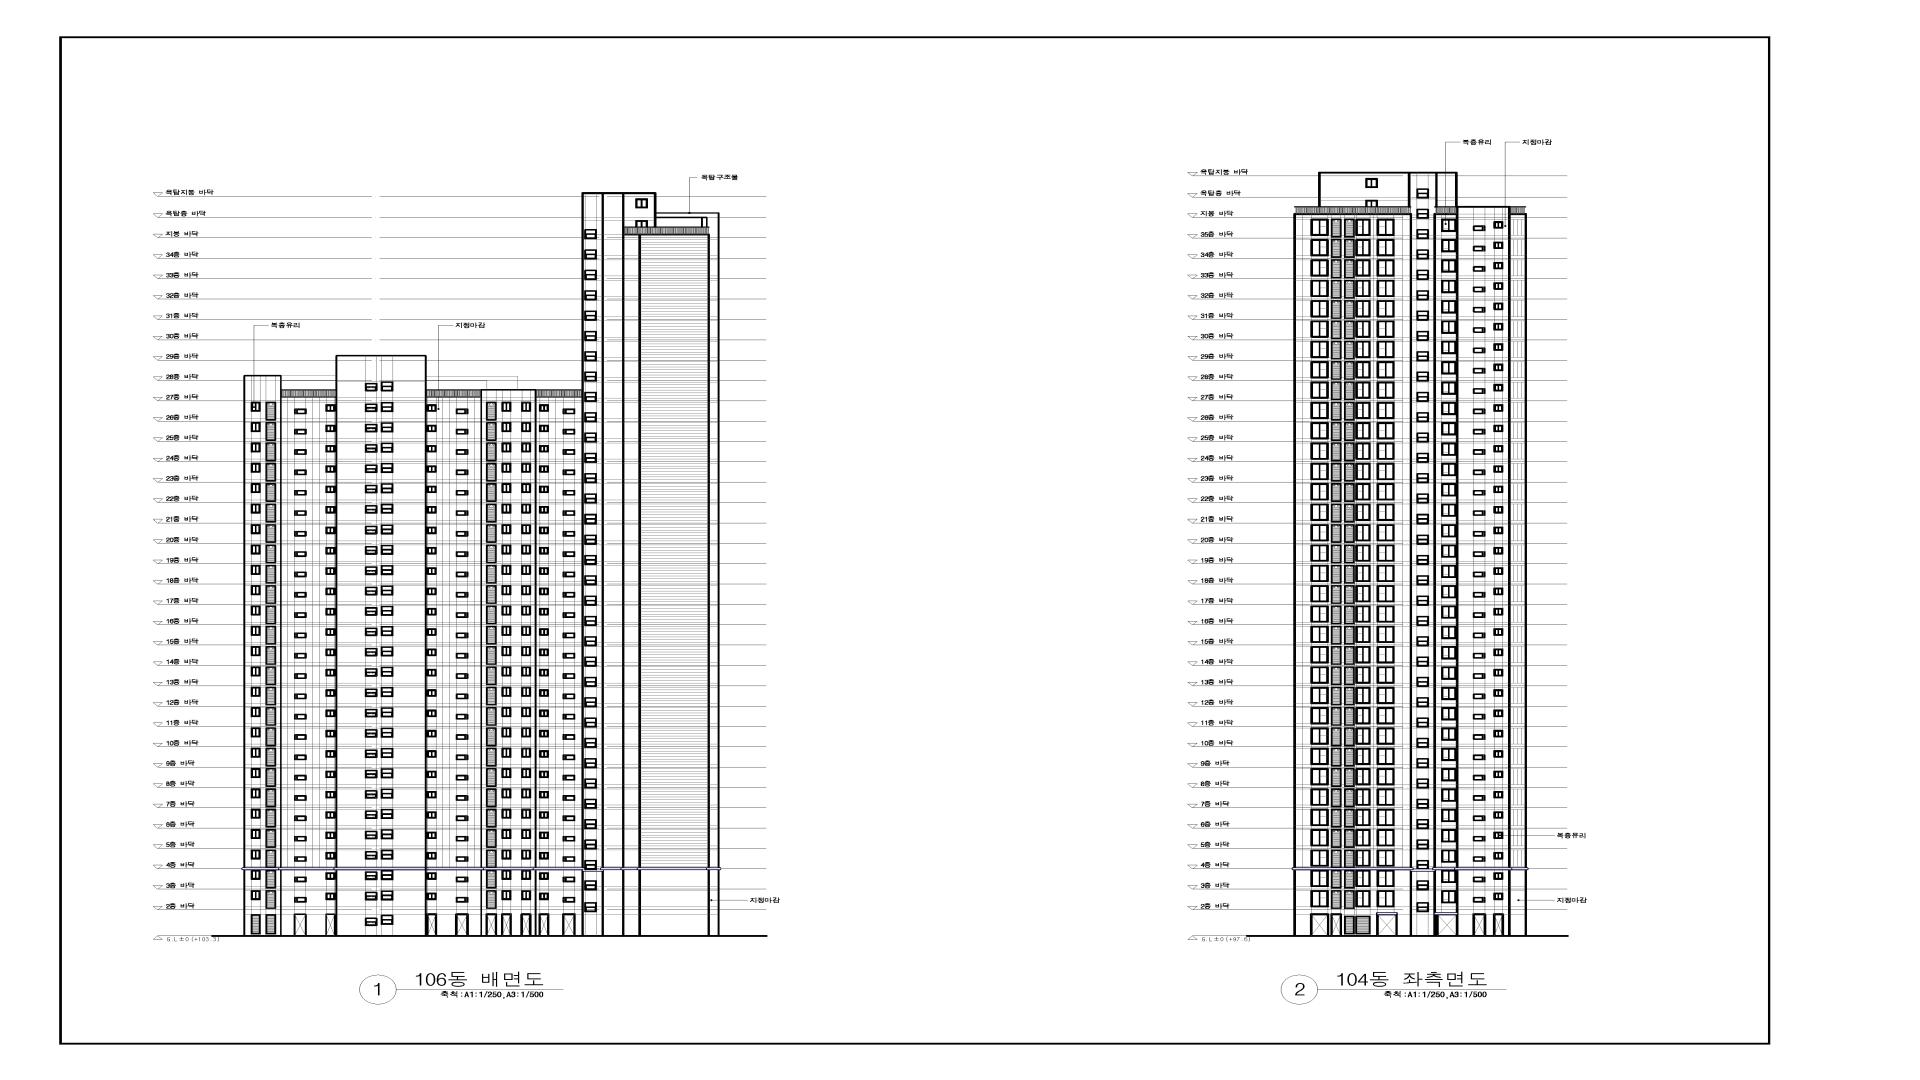door: (1433, 915, 1458, 935), (1376, 914, 1398, 935), (1310, 913, 1329, 935), (455, 913, 469, 936), (562, 913, 576, 936), (1472, 913, 1486, 935), (294, 914, 307, 936), (325, 913, 337, 936), (520, 913, 532, 936), (1330, 913, 1342, 935), (486, 913, 497, 936), (501, 913, 512, 936), (538, 913, 549, 936), (1493, 913, 1504, 935), (427, 913, 437, 936)
wall: (243, 192, 720, 937), (1293, 172, 1527, 937)
window: (1310, 808, 1329, 826), (1376, 381, 1395, 399), (1376, 442, 1395, 460), (1376, 503, 1395, 521), (1376, 727, 1395, 745), (1377, 259, 1395, 277), (1311, 320, 1329, 338), (1311, 361, 1329, 379), (1311, 381, 1329, 399), (1311, 442, 1329, 460), (1311, 462, 1329, 480), (1311, 524, 1329, 542), (1311, 544, 1329, 562), (1311, 788, 1329, 806), (1377, 320, 1395, 338), (1377, 340, 1395, 358), (1377, 361, 1395, 379), (1376, 422, 1394, 440), (1377, 483, 1395, 501), (1377, 666, 1395, 684), (1311, 218, 1329, 236), (1310, 585, 1329, 602), (1310, 748, 1329, 765), (1310, 890, 1329, 907), (1376, 463, 1395, 480), (1376, 524, 1395, 541), (1376, 707, 1395, 724), (1376, 748, 1395, 765), (1376, 788, 1395, 805), (1376, 850, 1395, 867), (1376, 870, 1395, 887), (1310, 239, 1329, 256), (1310, 259, 1329, 276), (1377, 219, 1395, 236), (1377, 239, 1395, 256), (1377, 280, 1395, 297), (1311, 341, 1329, 358), (1311, 402, 1329, 419), (1311, 422, 1329, 439), (1311, 483, 1329, 500), (1311, 504, 1329, 521), (1311, 565, 1329, 582), (1311, 606, 1329, 623), (1311, 626, 1329, 643), (1311, 646, 1329, 663), (1311, 666, 1329, 683), (1311, 687, 1329, 704), (1311, 707, 1329, 724), (1311, 728, 1329, 745), (1311, 768, 1329, 785), (1311, 829, 1329, 846), (1311, 850, 1329, 867), (1311, 870, 1329, 887), (1377, 300, 1395, 317), (1377, 402, 1395, 419), (1377, 545, 1395, 562), (1377, 565, 1395, 582), (1377, 585, 1395, 602), (1376, 605, 1394, 622), (1377, 626, 1395, 643), (1377, 646, 1395, 663), (1377, 687, 1395, 704), (1377, 768, 1395, 785), (1376, 809, 1394, 826), (1377, 829, 1395, 846), (1377, 890, 1395, 907), (1311, 280, 1329, 297), (1311, 300, 1329, 317), (1355, 916, 1371, 934), (1355, 361, 1371, 379), (1355, 381, 1371, 399), (1355, 422, 1371, 440), (1355, 442, 1371, 460), (1355, 605, 1371, 623), (1355, 646, 1371, 664), (1355, 707, 1371, 725), (1355, 727, 1371, 745), (1355, 788, 1371, 806), (1355, 218, 1371, 236), (1355, 239, 1371, 257), (1355, 259, 1371, 277), (1355, 300, 1371, 318), (1355, 320, 1371, 338), (1355, 341, 1371, 358), (1355, 402, 1371, 419), (1355, 463, 1371, 480), (1355, 483, 1371, 500), (1355, 524, 1371, 541), (1355, 545, 1371, 562), (1355, 565, 1371, 582), (1355, 585, 1371, 602), (1355, 626, 1371, 643), (1355, 687, 1371, 704), (1355, 748, 1371, 765), (1355, 768, 1371, 785), (1355, 809, 1371, 826), (1355, 829, 1371, 846), (1355, 850, 1371, 867), (1355, 870, 1371, 887), (1355, 890, 1371, 907), (1355, 280, 1371, 297), (1355, 503, 1370, 521), (1355, 666, 1370, 684), (1441, 218, 1459, 232), (1441, 259, 1459, 273), (1441, 300, 1459, 314), (1441, 320, 1459, 334), (1441, 361, 1459, 375), (1441, 442, 1459, 456), (1441, 605, 1459, 619), (1441, 666, 1459, 680), (1441, 707, 1459, 721), (1441, 727, 1459, 741), (1441, 381, 1458, 395), (1441, 503, 1458, 517), (1441, 788, 1458, 802), (1441, 239, 1459, 252), (1441, 341, 1459, 354), (1441, 422, 1459, 435), (1441, 463, 1459, 476), (1441, 483, 1459, 496), (1441, 524, 1459, 537), (1441, 565, 1459, 578), (1441, 585, 1459, 598), (1441, 626, 1459, 639), (1441, 646, 1459, 659), (1441, 748, 1459, 761), (1441, 768, 1459, 781), (1441, 850, 1459, 863), (1441, 280, 1458, 293), (1441, 402, 1458, 415), (1441, 544, 1458, 557), (1441, 687, 1458, 700), (1441, 809, 1458, 822), (1441, 829, 1458, 842), (1441, 870, 1458, 883), (1441, 890, 1458, 903), (265, 914, 276, 934), (1344, 218, 1355, 238), (265, 890, 276, 909), (265, 870, 276, 889), (265, 849, 276, 868), (265, 829, 276, 848), (265, 788, 276, 807), (265, 768, 276, 787), (265, 748, 276, 767), (265, 727, 276, 746), (265, 707, 276, 726), (265, 666, 276, 685), (265, 646, 276, 665), (265, 605, 276, 624), (265, 585, 276, 604), (265, 565, 276, 584), (265, 544, 276, 563), (265, 524, 276, 543), (265, 504, 276, 523), (265, 483, 276, 502), (265, 463, 276, 482), (265, 442, 276, 461), (265, 422, 276, 441), (265, 402, 276, 421), (486, 890, 497, 909), (486, 870, 497, 889), (486, 829, 497, 848), (486, 788, 497, 807), (486, 768, 497, 787), (486, 727, 497, 746), (486, 707, 497, 726), (486, 686, 497, 705), (486, 666, 497, 685), (486, 646, 497, 665), (486, 605, 497, 624), (486, 585, 497, 604), (486, 565, 497, 584), (486, 544, 497, 563), (486, 524, 497, 543), (486, 483, 497, 502), (486, 463, 497, 482), (486, 442, 497, 461), (486, 422, 497, 441), (486, 402, 497, 421), (1331, 585, 1342, 604), (1344, 605, 1355, 624), (1331, 605, 1342, 624), (1344, 646, 1355, 665), (1344, 666, 1355, 685), (1344, 707, 1355, 726), (1331, 646, 1342, 665), (1331, 666, 1342, 685), (1331, 687, 1342, 706), (1331, 707, 1342, 726), (1344, 727, 1355, 746), (1331, 727, 1342, 746), (1344, 748, 1355, 767), (1344, 768, 1355, 787), (1331, 768, 1342, 787), (1344, 788, 1355, 807), (1344, 829, 1355, 848), (1331, 829, 1342, 848), (1344, 849, 1355, 868), (1331, 849, 1342, 868), (1344, 890, 1355, 909), (1331, 870, 1342, 889), (1331, 890, 1342, 909), (1331, 219, 1342, 238), (1344, 239, 1355, 258), (1331, 239, 1342, 258), (1344, 259, 1355, 278), (1331, 259, 1342, 278), (1331, 280, 1342, 299), (1344, 300, 1355, 319), (1331, 300, 1342, 319), (1344, 320, 1355, 339), (1331, 320, 1342, 339), (1344, 361, 1355, 380), (1331, 361, 1342, 380), (1344, 381, 1355, 400), (1331, 381, 1342, 400), (1344, 402, 1355, 421), (1344, 422, 1355, 441), (1331, 422, 1342, 441), (1344, 442, 1355, 461), (1331, 442, 1342, 461), (1344, 483, 1355, 502), (1331, 483, 1342, 502), (1331, 503, 1342, 522), (1344, 524, 1355, 543), (1331, 524, 1342, 543), (1331, 544, 1342, 563), (1344, 585, 1355, 604), (251, 914, 261, 934), (265, 809, 276, 827), (265, 687, 276, 705), (265, 626, 276, 644), (486, 850, 497, 868), (486, 809, 497, 827), (486, 748, 497, 766), (486, 626, 497, 644), (486, 504, 497, 522), (1344, 916, 1355, 934), (1344, 626, 1355, 644), (1344, 687, 1355, 705), (1331, 626, 1342, 644), (1331, 748, 1342, 766), (1344, 809, 1355, 827), (1331, 809, 1342, 827), (1344, 870, 1355, 888), (1344, 280, 1355, 298), (1344, 341, 1355, 359), (1331, 341, 1342, 359), (1331, 402, 1342, 420), (1344, 463, 1355, 481), (1331, 463, 1342, 481), (1344, 504, 1355, 522), (1344, 545, 1355, 563), (1344, 565, 1355, 583), (1331, 565, 1342, 583), (1331, 788, 1341, 807), (381, 890, 394, 901), (381, 646, 394, 657), (584, 839, 597, 850), (584, 656, 597, 667), (584, 493, 597, 504), (584, 432, 597, 443), (584, 351, 597, 362), (1416, 188, 1429, 199), (1416, 249, 1429, 260), (1416, 290, 1429, 301), (1416, 371, 1429, 382), (1416, 473, 1429, 484), (1416, 514, 1429, 525), (1416, 575, 1429, 586), (1416, 697, 1429, 708), (1416, 717, 1429, 728), (1416, 778, 1429, 789), (1416, 839, 1429, 850), (1416, 880, 1429, 891), (381, 788, 393, 799), (381, 585, 393, 596), (381, 524, 393, 535), (381, 381, 393, 392), (381, 915, 394, 925), (381, 870, 394, 880), (381, 707, 394, 717), (380, 667, 393, 677), (380, 463, 393, 473), (381, 443, 394, 453), (380, 422, 393, 432), (584, 902, 597, 912), (584, 880, 597, 890), (584, 860, 597, 870), (584, 819, 597, 829), (584, 799, 597, 809), (584, 778, 597, 788), (584, 758, 597, 768), (584, 738, 597, 748), (584, 717, 597, 727), (584, 697, 597, 707), (584, 677, 597, 687), (584, 636, 597, 646), (584, 616, 597, 626), (584, 596, 597, 606), (584, 575, 597, 585), (584, 555, 597, 565), (584, 535, 597, 545), (584, 514, 597, 524), (584, 473, 597, 483), (584, 453, 597, 463), (584, 412, 597, 422), (584, 392, 597, 402), (584, 372, 597, 382), (584, 331, 597, 341), (584, 311, 597, 321), (584, 290, 597, 300), (584, 270, 597, 280), (584, 249, 597, 259), (584, 229, 597, 239), (635, 198, 648, 208), (1365, 178, 1378, 188), (1416, 209, 1429, 219), (1416, 229, 1429, 239), (1416, 270, 1429, 280), (1416, 311, 1429, 321), (1416, 331, 1429, 341), (1416, 351, 1429, 361), (1416, 392, 1429, 402), (1416, 412, 1429, 422), (1416, 432, 1429, 442), (1416, 453, 1429, 463), (1416, 494, 1429, 504), (1416, 535, 1429, 545), (1416, 555, 1429, 565), (1416, 596, 1429, 606), (1416, 616, 1429, 626), (1416, 636, 1429, 646), (1416, 657, 1429, 667), (1416, 677, 1429, 687), (1416, 738, 1429, 748), (1416, 758, 1429, 768), (1416, 799, 1429, 809), (1416, 819, 1429, 829), (1416, 902, 1429, 912), (381, 850, 393, 860), (381, 829, 393, 839), (381, 809, 393, 819), (381, 768, 393, 778), (381, 748, 393, 758), (381, 728, 393, 738), (381, 687, 393, 697), (381, 626, 393, 636), (381, 606, 393, 616), (381, 565, 393, 575), (381, 545, 393, 555), (381, 504, 393, 514), (381, 483, 393, 493), (381, 402, 393, 412), (365, 917, 378, 926), (365, 810, 378, 819), (365, 790, 378, 799), (365, 668, 378, 677), (365, 607, 378, 616), (365, 566, 378, 575), (365, 546, 378, 555), (365, 464, 378, 473), (1416, 860, 1429, 869), (501, 544, 511, 555), (501, 503, 511, 514), (521, 544, 531, 555), (251, 849, 261, 860), (251, 808, 261, 819), (251, 666, 261, 677), (251, 605, 261, 616), (251, 544, 261, 555), (251, 462, 261, 473), (501, 849, 511, 860), (501, 808, 511, 819), (365, 403, 377, 412), (365, 871, 377, 880), (365, 851, 377, 860), (365, 749, 377, 758), (365, 729, 377, 738), (365, 505, 377, 514), (365, 444, 377, 453), (365, 383, 378, 391), (635, 220, 648, 228), (365, 892, 378, 900), (365, 831, 378, 839), (365, 689, 378, 697), (365, 485, 378, 493), (365, 424, 378, 432), (1365, 200, 1378, 208), (501, 565, 511, 575), (501, 524, 511, 534), (501, 483, 511, 493), (501, 463, 511, 473), (501, 442, 511, 452), (501, 422, 511, 432), (501, 402, 511, 412), (521, 402, 531, 412), (521, 890, 531, 900), (521, 870, 531, 880), (521, 850, 531, 860), (521, 829, 531, 839), (521, 809, 531, 819), (521, 788, 531, 798), (521, 768, 531, 778), (521, 748, 531, 758), (521, 727, 531, 737), (521, 707, 531, 717), (521, 687, 531, 697), (521, 666, 531, 676), (521, 646, 531, 656), (521, 626, 531, 636), (521, 605, 531, 615), (521, 585, 531, 595), (521, 565, 531, 575), (521, 524, 531, 534), (521, 504, 531, 514), (521, 483, 531, 493), (521, 463, 531, 473), (521, 442, 531, 452), (521, 422, 531, 432), (251, 890, 261, 900), (251, 870, 261, 880), (251, 829, 261, 839), (251, 788, 261, 798), (251, 768, 261, 778), (251, 748, 261, 758), (251, 727, 261, 737), (251, 707, 261, 717), (251, 687, 261, 697), (251, 646, 261, 656), (251, 626, 261, 636), (251, 585, 261, 595), (251, 565, 261, 575), (251, 524, 261, 534), (251, 504, 261, 514), (251, 483, 261, 493), (251, 442, 261, 452), (251, 422, 261, 432), (251, 402, 261, 412), (501, 890, 511, 900), (501, 870, 511, 880), (501, 829, 511, 839), (501, 788, 511, 798), (501, 768, 511, 778), (501, 748, 511, 758), (501, 727, 511, 737), (501, 707, 511, 717), (501, 687, 511, 697), (501, 666, 511, 676), (501, 646, 511, 656), (501, 626, 511, 636), (501, 605, 511, 615), (501, 585, 511, 595), (365, 770, 377, 778), (365, 709, 377, 717), (365, 648, 377, 656), (365, 628, 377, 636), (365, 587, 377, 595), (365, 526, 377, 534), (325, 852, 336, 860), (426, 811, 437, 819), (426, 770, 437, 778), (426, 608, 437, 616), (426, 567, 437, 575), (426, 506, 437, 514), (1493, 608, 1504, 616), (1493, 648, 1504, 656), (1493, 689, 1504, 697), (1493, 750, 1504, 758), (539, 506, 549, 514), (539, 465, 549, 473), (539, 445, 549, 453), (539, 404, 549, 412), (325, 872, 335, 880), (325, 811, 335, 819), (325, 750, 335, 758), (325, 709, 335, 717), (325, 689, 335, 697), (325, 648, 335, 656), (325, 628, 335, 636), (325, 608, 335, 616), (325, 567, 335, 575), (325, 547, 335, 555), (325, 506, 335, 514), (325, 465, 335, 473), (325, 445, 335, 453), (325, 404, 335, 412), (427, 872, 437, 880), (427, 852, 437, 860), (427, 750, 437, 758), (427, 709, 437, 717), (427, 689, 437, 697), (427, 628, 437, 636), (427, 547, 437, 555), (427, 465, 437, 473), (427, 445, 437, 453), (427, 404, 437, 412), (539, 892, 549, 900), (539, 872, 549, 880), (539, 852, 549, 860), (539, 811, 549, 819), (539, 791, 549, 799), (539, 750, 549, 758), (539, 709, 549, 717), (539, 689, 549, 697), (539, 628, 549, 636), (539, 608, 549, 616), (539, 567, 549, 575), (539, 547, 549, 555), (1493, 221, 1503, 229), (1493, 241, 1503, 249), (1493, 282, 1503, 290), (1493, 323, 1503, 331), (1493, 343, 1503, 351), (1493, 363, 1503, 371), (1493, 404, 1503, 412), (1493, 465, 1503, 473), (1493, 567, 1503, 575), (1493, 628, 1503, 636), (1493, 669, 1503, 677), (1493, 709, 1503, 717), (1493, 811, 1503, 819), (1493, 872, 1503, 880), (294, 897, 307, 903), (294, 876, 307, 882), (294, 856, 307, 862), (294, 836, 307, 842), (294, 815, 307, 821), (294, 795, 307, 801), (294, 754, 307, 760), (294, 734, 307, 740), (294, 714, 307, 720), (294, 693, 307, 699), (294, 673, 307, 679), (294, 653, 307, 659), (294, 632, 307, 638), (294, 612, 307, 618), (294, 592, 307, 598), (294, 571, 307, 577), (294, 551, 307, 557), (294, 531, 307, 537), (294, 510, 307, 516), (294, 490, 307, 496), (294, 469, 307, 475), (294, 449, 307, 455), (294, 429, 307, 435), (294, 408, 307, 414), (562, 897, 575, 903), (562, 856, 575, 862), (562, 836, 575, 842), (562, 815, 575, 821), (562, 795, 575, 801), (562, 775, 575, 781), (562, 754, 575, 760), (562, 734, 575, 740), (562, 714, 575, 720), (562, 693, 575, 699), (562, 653, 575, 659), (562, 632, 575, 638), (562, 612, 575, 618), (562, 592, 575, 598), (562, 551, 575, 557), (562, 531, 575, 537), (562, 510, 575, 516), (562, 490, 575, 496), (562, 469, 575, 475), (562, 449, 575, 455), (562, 429, 575, 435), (1473, 266, 1486, 272), (1473, 307, 1486, 313), (1473, 327, 1486, 333), (1473, 347, 1486, 353), (1473, 368, 1486, 374), (1473, 388, 1486, 394), (1473, 408, 1486, 414), (1473, 449, 1486, 455), (1473, 469, 1486, 475), (1473, 490, 1486, 496), (1473, 531, 1486, 537), (1473, 551, 1486, 557), (1473, 592, 1486, 598), (1473, 612, 1486, 618), (1473, 632, 1486, 638), (1473, 653, 1486, 659), (1473, 673, 1486, 679), (1473, 693, 1486, 699), (1473, 714, 1486, 720), (1473, 734, 1486, 740), (1473, 754, 1486, 760), (1473, 795, 1486, 801), (1473, 815, 1486, 821), (1473, 897, 1486, 903), (1473, 510, 1486, 516), (1473, 856, 1486, 862), (1473, 225, 1486, 231), (1473, 246, 1486, 252), (426, 791, 437, 798), (426, 669, 437, 676), (426, 425, 437, 432), (1493, 303, 1504, 310), (1493, 506, 1504, 513), (1493, 588, 1504, 595), (456, 897, 468, 903), (456, 856, 468, 862), (456, 836, 468, 842), (456, 815, 468, 821), (456, 795, 468, 801), (456, 754, 468, 760), (456, 734, 468, 740), (456, 714, 468, 720), (456, 693, 468, 699), (456, 673, 468, 679), (456, 653, 468, 659), (456, 632, 468, 638), (456, 612, 468, 618), (456, 592, 468, 598), (456, 551, 468, 557), (456, 531, 468, 537), (456, 510, 468, 516), (456, 490, 468, 496), (456, 469, 468, 475), (456, 449, 468, 455), (456, 429, 468, 435), (456, 408, 468, 414), (563, 673, 575, 679), (563, 408, 575, 414), (539, 486, 549, 493), (539, 425, 549, 432), (325, 893, 335, 900), (325, 832, 335, 839), (325, 791, 335, 798), (325, 771, 335, 778), (325, 730, 335, 737), (325, 669, 335, 676), (325, 588, 335, 595), (325, 527, 335, 534), (325, 486, 335, 493), (325, 425, 335, 432), (427, 893, 437, 900), (427, 832, 437, 839), (427, 730, 437, 737), (427, 649, 437, 656), (427, 588, 437, 595), (427, 527, 437, 534), (427, 486, 437, 493), (539, 832, 549, 839), (539, 771, 549, 778), (539, 730, 549, 737), (539, 669, 549, 676), (539, 649, 549, 656), (539, 588, 549, 595), (539, 527, 549, 534), (1493, 262, 1503, 269), (1493, 384, 1503, 391), (1493, 425, 1503, 432), (1493, 445, 1503, 452), (1493, 486, 1503, 493), (1493, 527, 1503, 534), (1493, 547, 1503, 554), (1493, 730, 1503, 737), (1493, 771, 1503, 778), (1493, 791, 1503, 798), (1493, 832, 1503, 839), (1493, 852, 1503, 859), (1493, 893, 1503, 900), (294, 775, 307, 780), (562, 877, 575, 882), (1473, 287, 1486, 292), (1473, 429, 1486, 434), (1473, 572, 1486, 577), (1473, 775, 1486, 780), (1473, 877, 1486, 882), (1473, 836, 1486, 841), (456, 877, 468, 882), (456, 775, 468, 780), (456, 572, 468, 577), (563, 572, 575, 577)
